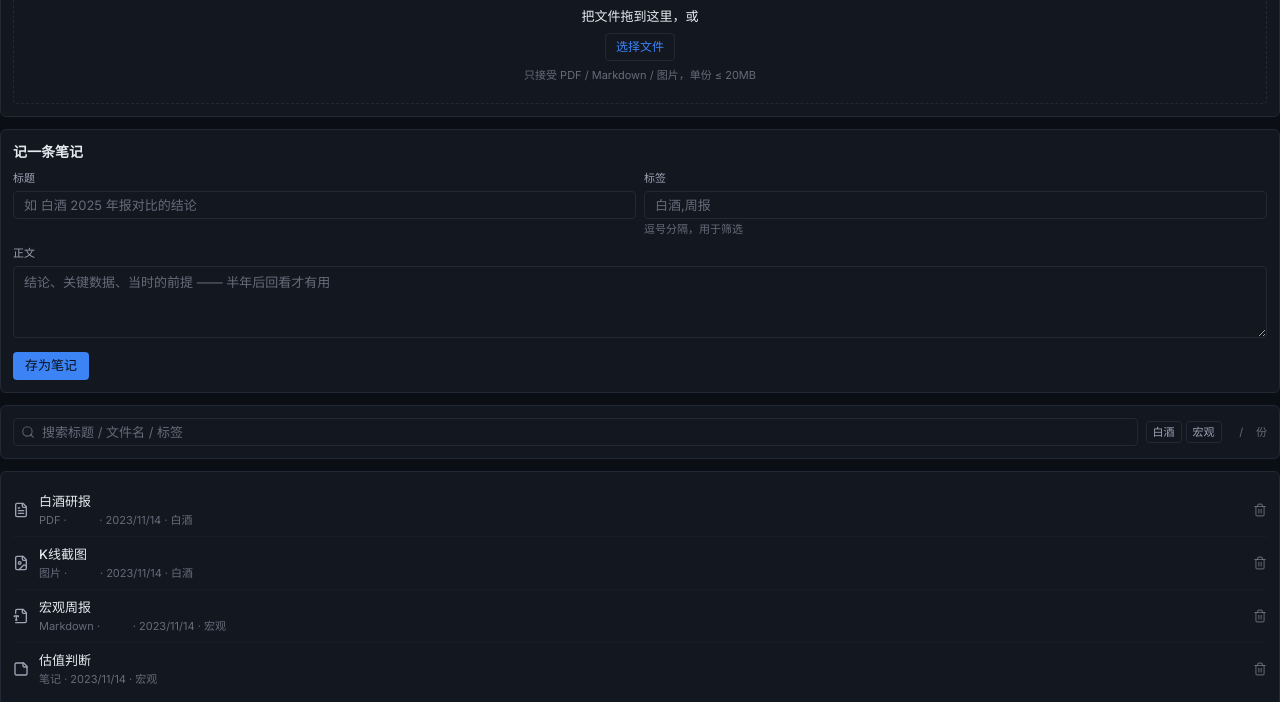
Test: 预览按 kind 分派 › note → 直接渲染正文，不必去要附件
(page scrolled)
expect the number of elements with test id "doc-row" is 4: met, box x1=13 y1=484 x2=1267 y2=536; x1=13 y1=536 x2=1267 y2=589; x1=13 y1=589 x2=1267 y2=642; x1=13 y1=642 x2=1267 y2=695
Click the text "估值判断" at (65, 660), box x1=39 y1=652 x2=91 y2=668
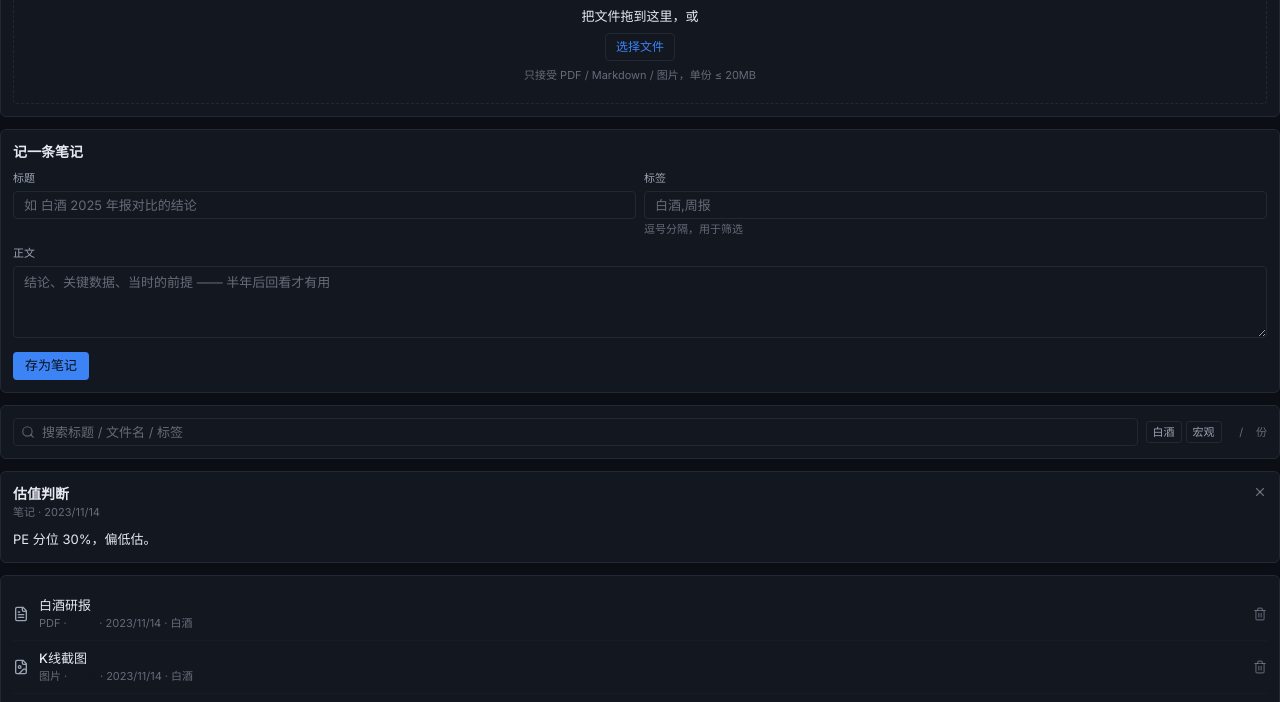
expect the text "PE 分位 30%，偏低估。" is shown: met, box x1=13 y1=530 x2=156 y2=546
